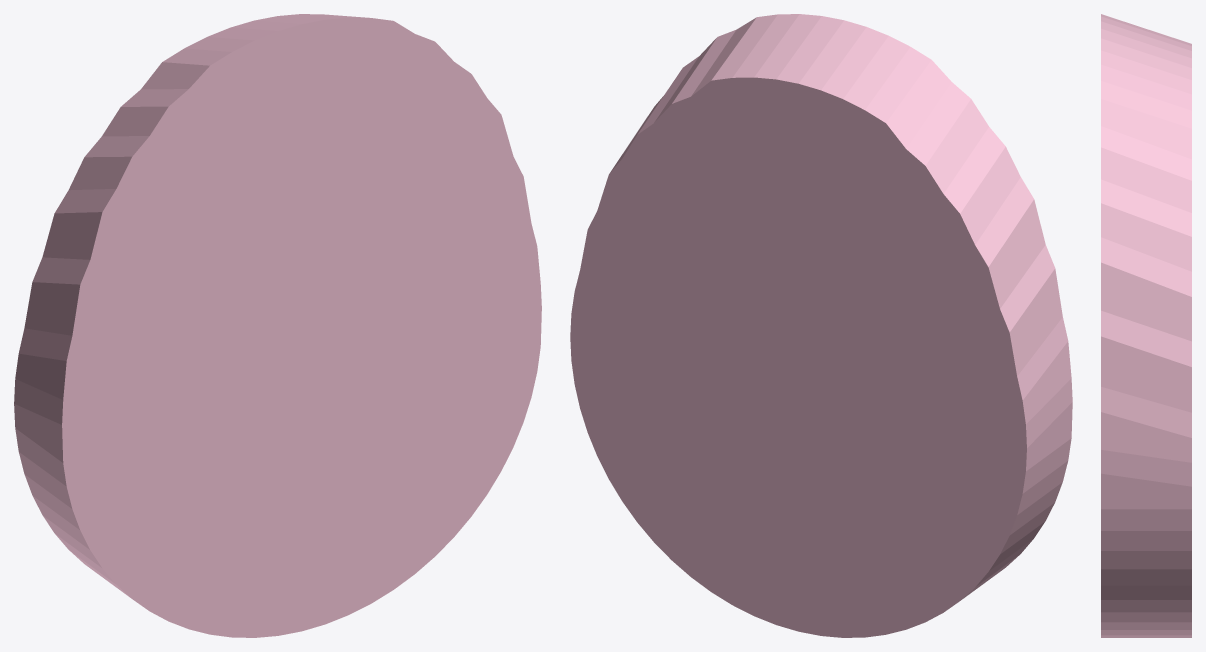
Rendered from head_03.glb.
3 views of the same model, side by side, from view 1: azimuth 30°, elevation 25°; view 2: azimuth 150°, elevation 25°; view 3: azimuth 270°, elevation 25° (orthographic). The views are drawn at different scales.
Parts seen in each view (by area): view 1: head_03; view 2: head_03; view 3: head_03.
Part boxes in pixels (bbox=[...]): head_03: bbox=[14, 14, 541, 637]; head_03: bbox=[570, 14, 1072, 637]; head_03: bbox=[1101, 14, 1191, 637].
Bounding box in the file's own units: 2.23 × 2.69 × 0.3857.
